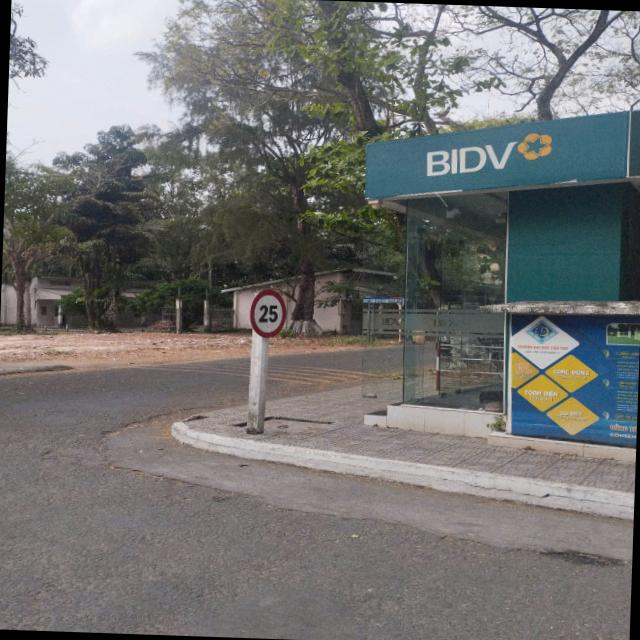Tre_Em: (248, 286, 288, 338)
